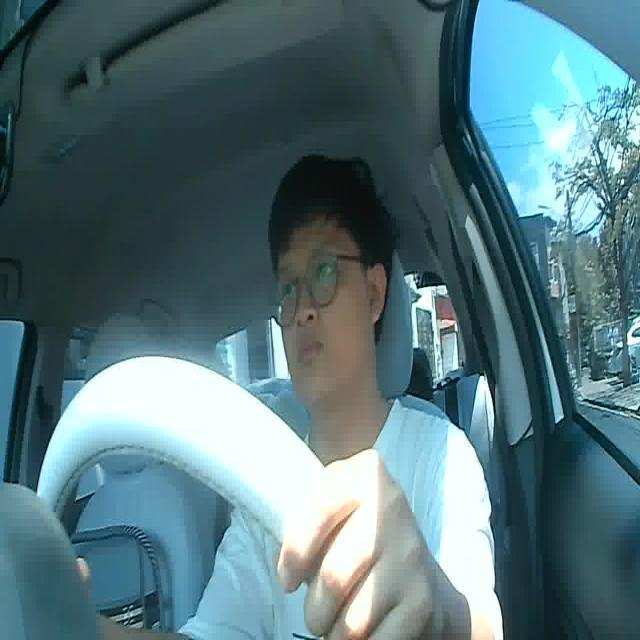Attentive: (264, 156, 399, 397)
Eye-Open: (277, 278, 300, 302), (311, 260, 334, 282)
Normal: (298, 337, 325, 366)
